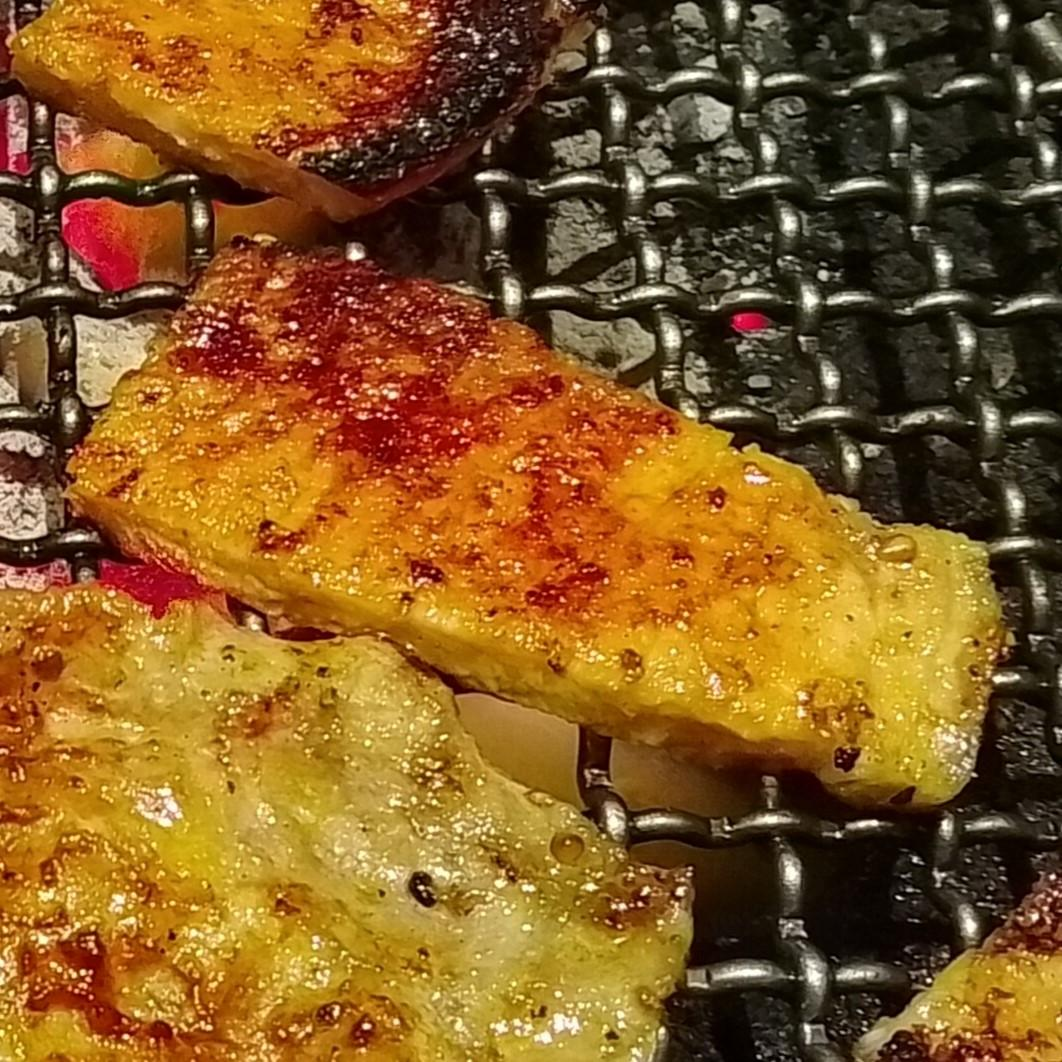Overcooked: (4, 0, 577, 222), (860, 863, 1061, 1061)
Well-Cooked: (63, 242, 1007, 820), (0, 572, 696, 1061)
